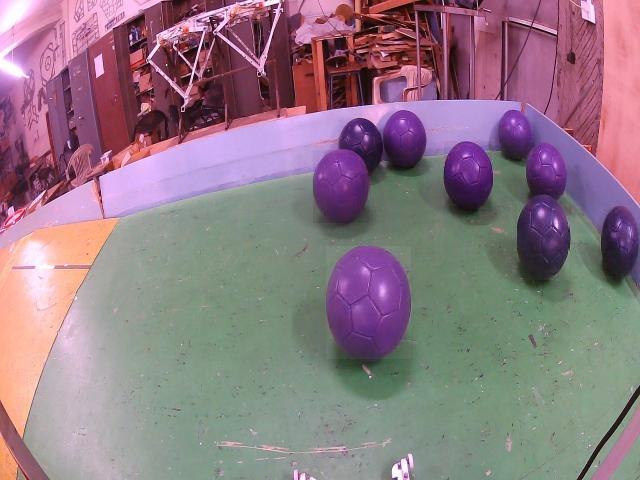jambhalya: (326, 246, 411, 359), (314, 150, 369, 223), (444, 141, 492, 211), (383, 110, 426, 168), (526, 144, 566, 200), (498, 110, 533, 160)
kaalyya: (517, 195, 569, 280), (601, 207, 639, 278), (339, 119, 382, 173)
